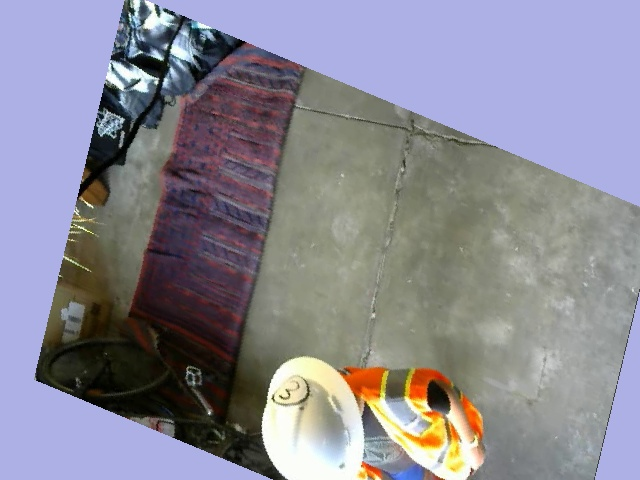three: (267, 365, 310, 416)
